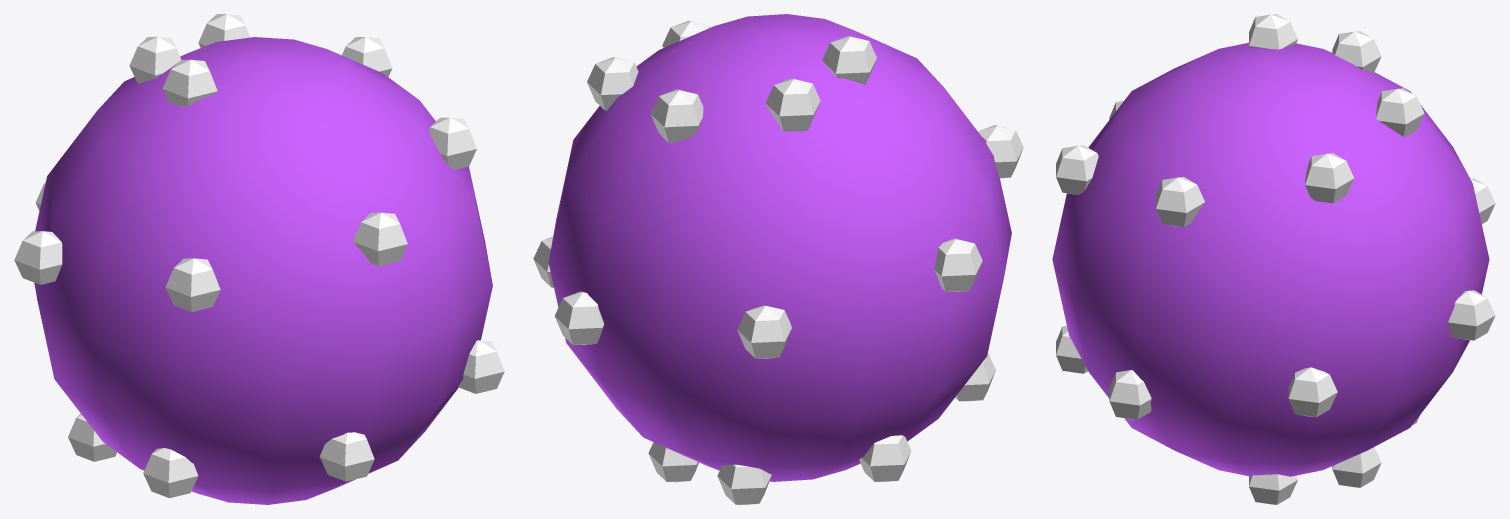
Rendered from Fruto_HypnoBloom.fbx.
3 renders of one model, left to right at view 1: azimuth 30°, elevation 25°; view 2: azimuth 150°, elevation 25°; view 3: azimuth 270°, elevation 25°, orthographic. The views are drawn at different scales.
Parts seen in each view (by area): view 1: Produto_HypnoBloom, Cabo_HypnoBloom; view 2: Produto_HypnoBloom, Cabo_HypnoBloom; view 3: Produto_HypnoBloom, Cabo_HypnoBloom.
Boxes of the visible parts, bbox=[...] form: Produto_HypnoBloom: bbox=[34, 37, 492, 504]; Cabo_HypnoBloom: bbox=[14, 14, 504, 498]; Produto_HypnoBloom: bbox=[548, 14, 1011, 481]; Cabo_HypnoBloom: bbox=[533, 20, 1023, 504]; Produto_HypnoBloom: bbox=[1052, 42, 1489, 476]; Cabo_HypnoBloom: bbox=[1056, 14, 1495, 504].
Size of the model in its own units: 0.7875 by 0.7769 by 0.7326.
Materials: 1 (1 with a texture image).
